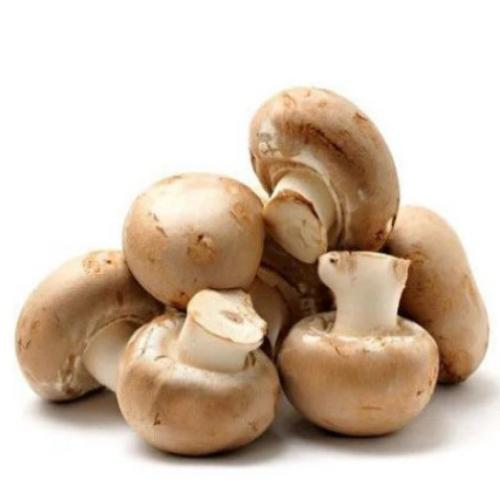Button Mushroom: (263, 236, 460, 451), (96, 277, 294, 471), (0, 232, 186, 429), (239, 71, 410, 271), (107, 155, 282, 318), (364, 192, 500, 392)
